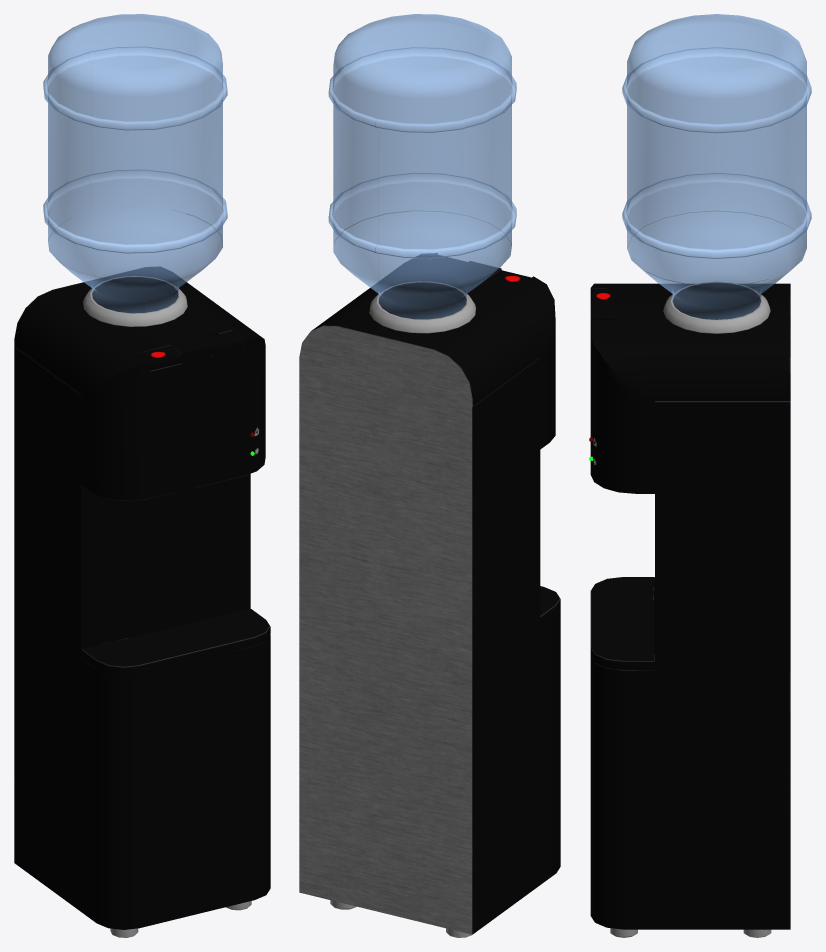
File: water_machine.glb
The picture shows the model from 3 angles, left to right: view 1: azimuth 30°, elevation 25°; view 2: azimuth 150°, elevation 25°; view 3: azimuth 270°, elevation 25°; orthographic projection. The views are drawn at different scales.
Parts seen in each view (by area): view 1: SM_WaterMachine; view 2: SM_WaterMachine; view 3: SM_WaterMachine.
Boxes of the visible parts, x1,y1,x2,y2 form: SM_WaterMachine: (14,14,270,937); SM_WaterMachine: (299,14,560,937); SM_WaterMachine: (589,14,811,937).
Size of the model in its own units: 0.6 by 2.85 by 0.6662.
1 material, 1 textured.
